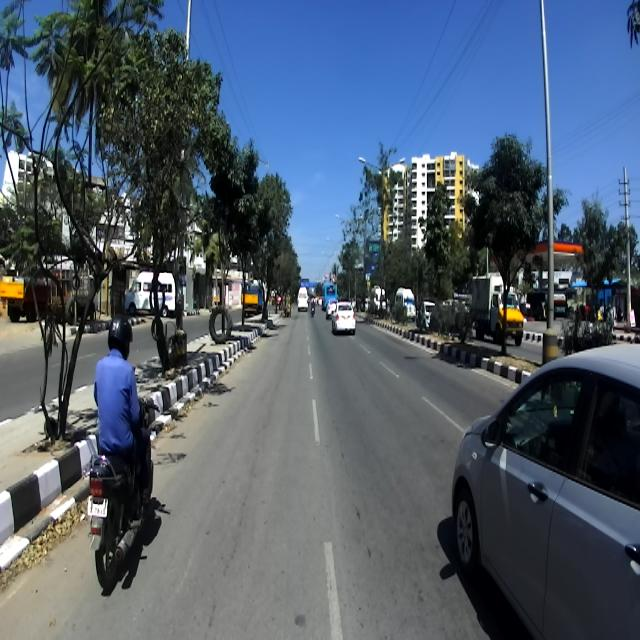car ahead at: (449, 342, 640, 640)
motorcycle ahead at: (88, 447, 161, 600)
